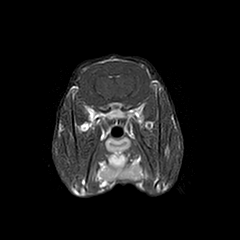Brain: (65, 30, 164, 128)
